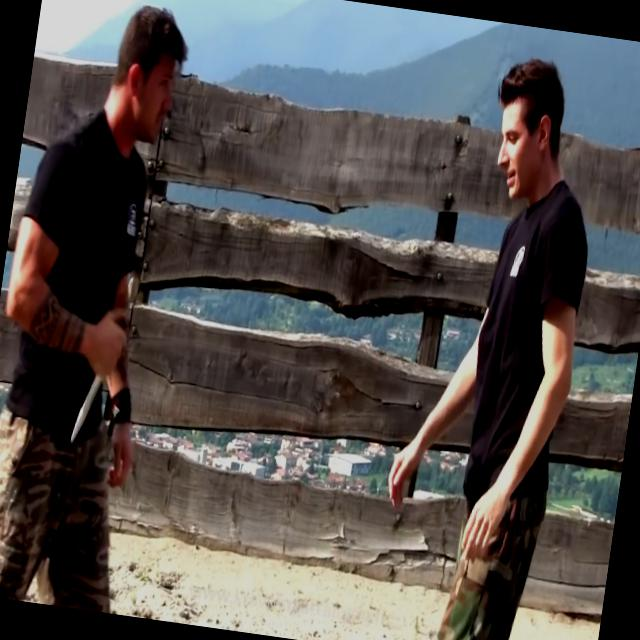knife: (65, 314, 129, 452)
